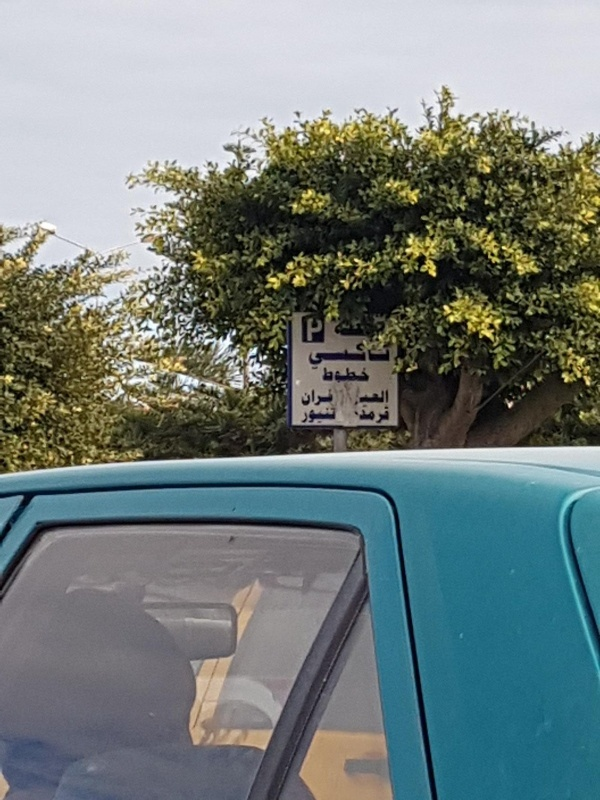text: (321, 339, 336, 371), (337, 339, 352, 371), (353, 339, 368, 371), (369, 339, 384, 371), (307, 339, 320, 371), (337, 315, 352, 342), (353, 315, 368, 342), (369, 315, 384, 342), (305, 317, 320, 342), (305, 386, 320, 407), (321, 386, 336, 407), (337, 386, 352, 407), (353, 386, 368, 407), (369, 386, 384, 407), (337, 366, 352, 383), (353, 366, 368, 383), (305, 407, 320, 424), (321, 407, 336, 424), (337, 407, 352, 424), (353, 407, 368, 424), (369, 407, 384, 424), (385, 339, 392, 371), (323, 366, 336, 383), (385, 315, 392, 342), (385, 386, 391, 407), (385, 407, 391, 424), (301, 386, 304, 407), (301, 407, 304, 424), (321, 317, 323, 342), (369, 366, 370, 383)
